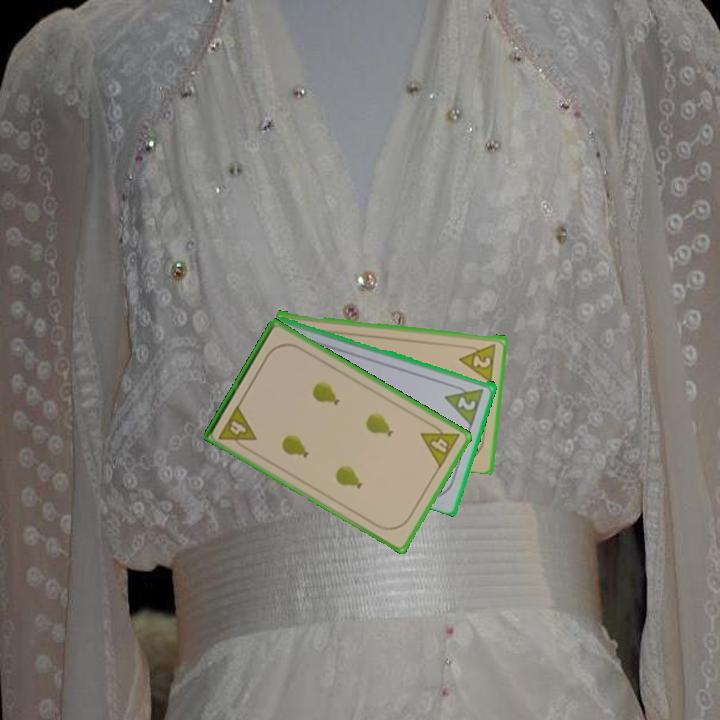2p: (456, 340, 499, 383), (454, 393, 479, 413)
4p: (417, 418, 463, 471), (215, 401, 259, 453)
